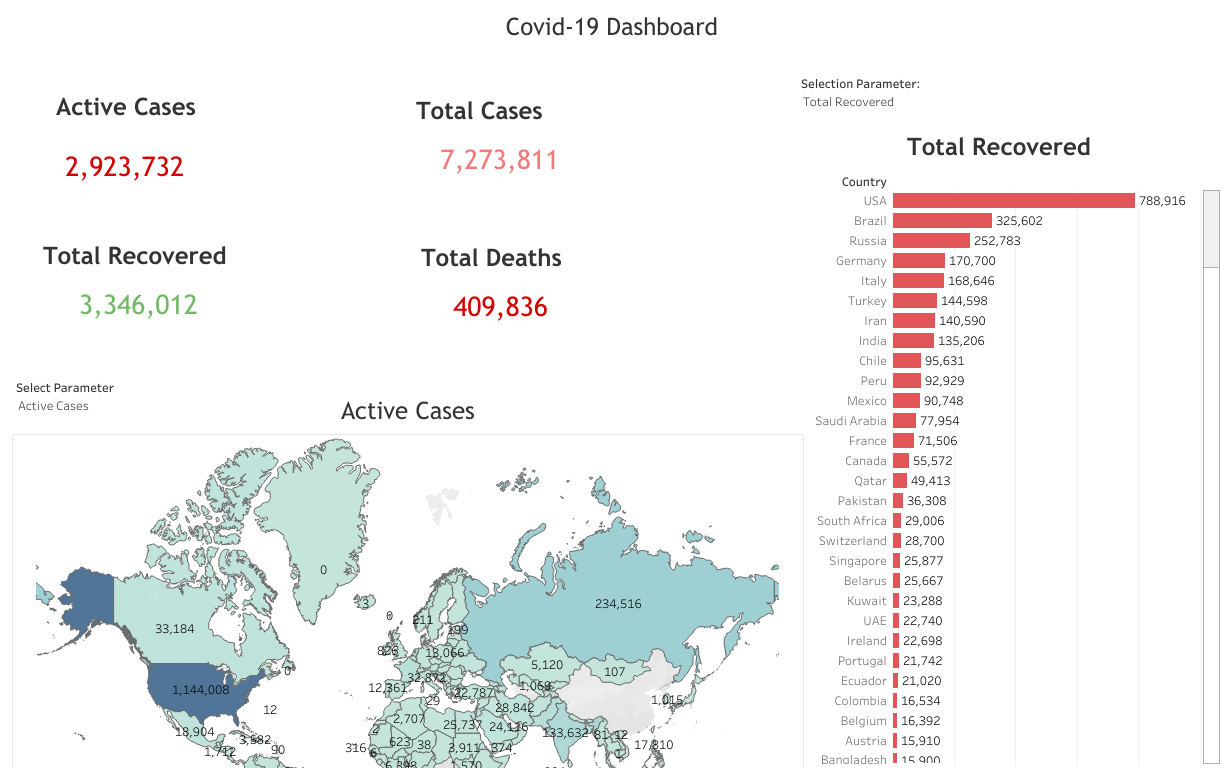

The dashboard page shown, as its layout file describes it:
{"tool":"tableau","page":{"name":"Covid-19 Dashboard","canvas":[1224,768],"ordinal":0},"visuals":[{"type":"worksheet","box":[0,0,1224,768]},{"type":"worksheet","param":"horz","box":[8,8,1208,752]},{"type":"worksheet","param":"vert","box":[8,8,1208,752]},{"type":"worksheet","box":[8,8,1208,36]},{"type":"worksheet","param":"[Parameters].[Parameter 1]","box":[800.9,73,191.2,48]},{"type":"worksheet","title":"Sheet 4","mark":"Automatic","box":[45.4,92,274.9,117]},{"type":"worksheet","title":"Sheet 7","mark":"Automatic","box":[412.4,96,254.6,124]},{"type":"worksheet","title":"Sheet 6","mark":"Automatic","box":[39.4,241,318,103]},{"type":"worksheet","title":"Sheet 5","mark":"Automatic","box":[417.2,243,254.6,108]},{"type":"worksheet","param":"[Parameters].[Parameter 2]","box":[16.3,377,191.7,48]}]}

Visuals, with their boxes in screenshot pixels (x1, y1, x2, y2), scaled from the page's 1224x768 canvas onto the 1224x768 screenshot:
worksheet: [x1=0, y1=0, x2=1223, y2=767]
worksheet: [x1=8, y1=8, x2=1216, y2=760]
worksheet: [x1=8, y1=8, x2=1216, y2=760]
worksheet: [x1=8, y1=8, x2=1216, y2=44]
worksheet: [x1=801, y1=73, x2=992, y2=121]
"Sheet 4" worksheet: [x1=45, y1=92, x2=320, y2=209]
"Sheet 7" worksheet: [x1=412, y1=96, x2=667, y2=220]
"Sheet 6" worksheet: [x1=39, y1=241, x2=357, y2=344]
"Sheet 5" worksheet: [x1=417, y1=243, x2=672, y2=351]
worksheet: [x1=16, y1=377, x2=208, y2=425]
